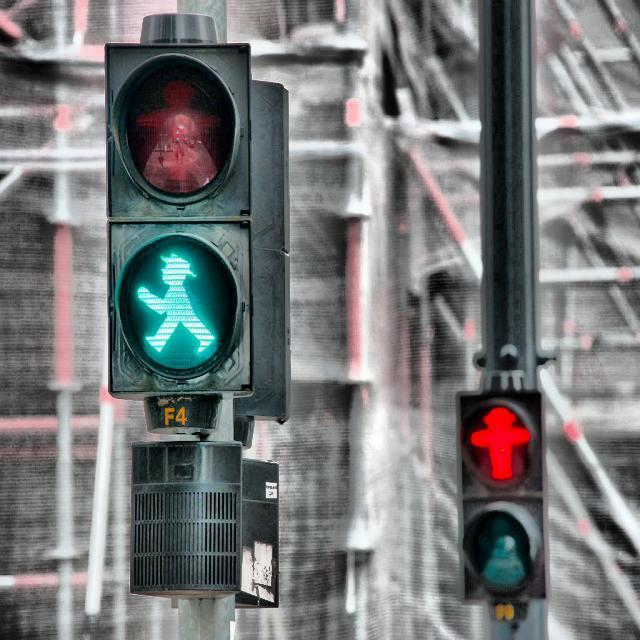green_light: (133, 248, 217, 356)
